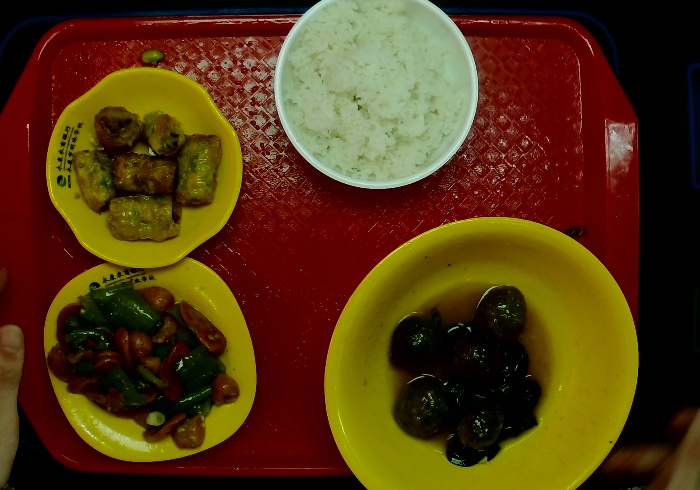YKMZ-Fan_Wan: (275, 1, 478, 186)
YKMZ-Huang_Se_Ao_Bian_Wan: (42, 64, 243, 272)
YKMZ-Huang_Se_Fang_Die: (38, 260, 256, 466)
YKMZ-Huang_Se_Tang_Wan: (323, 212, 641, 490)
